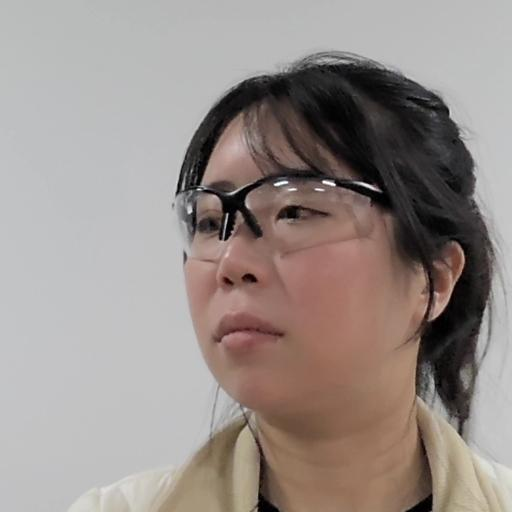glasses: (164, 64, 510, 425)
